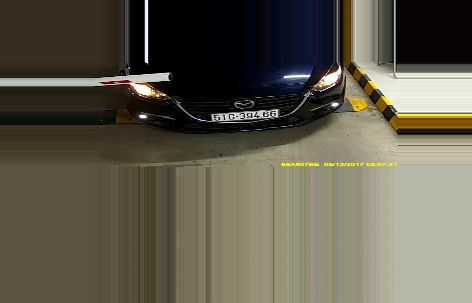plate: (212, 107, 281, 122)
